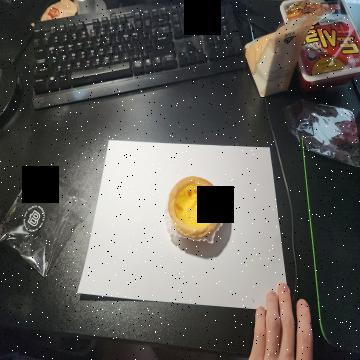EggTart: (167, 176, 224, 237)
